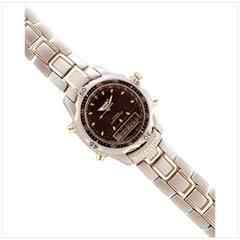watch: (53, 56, 184, 172)
